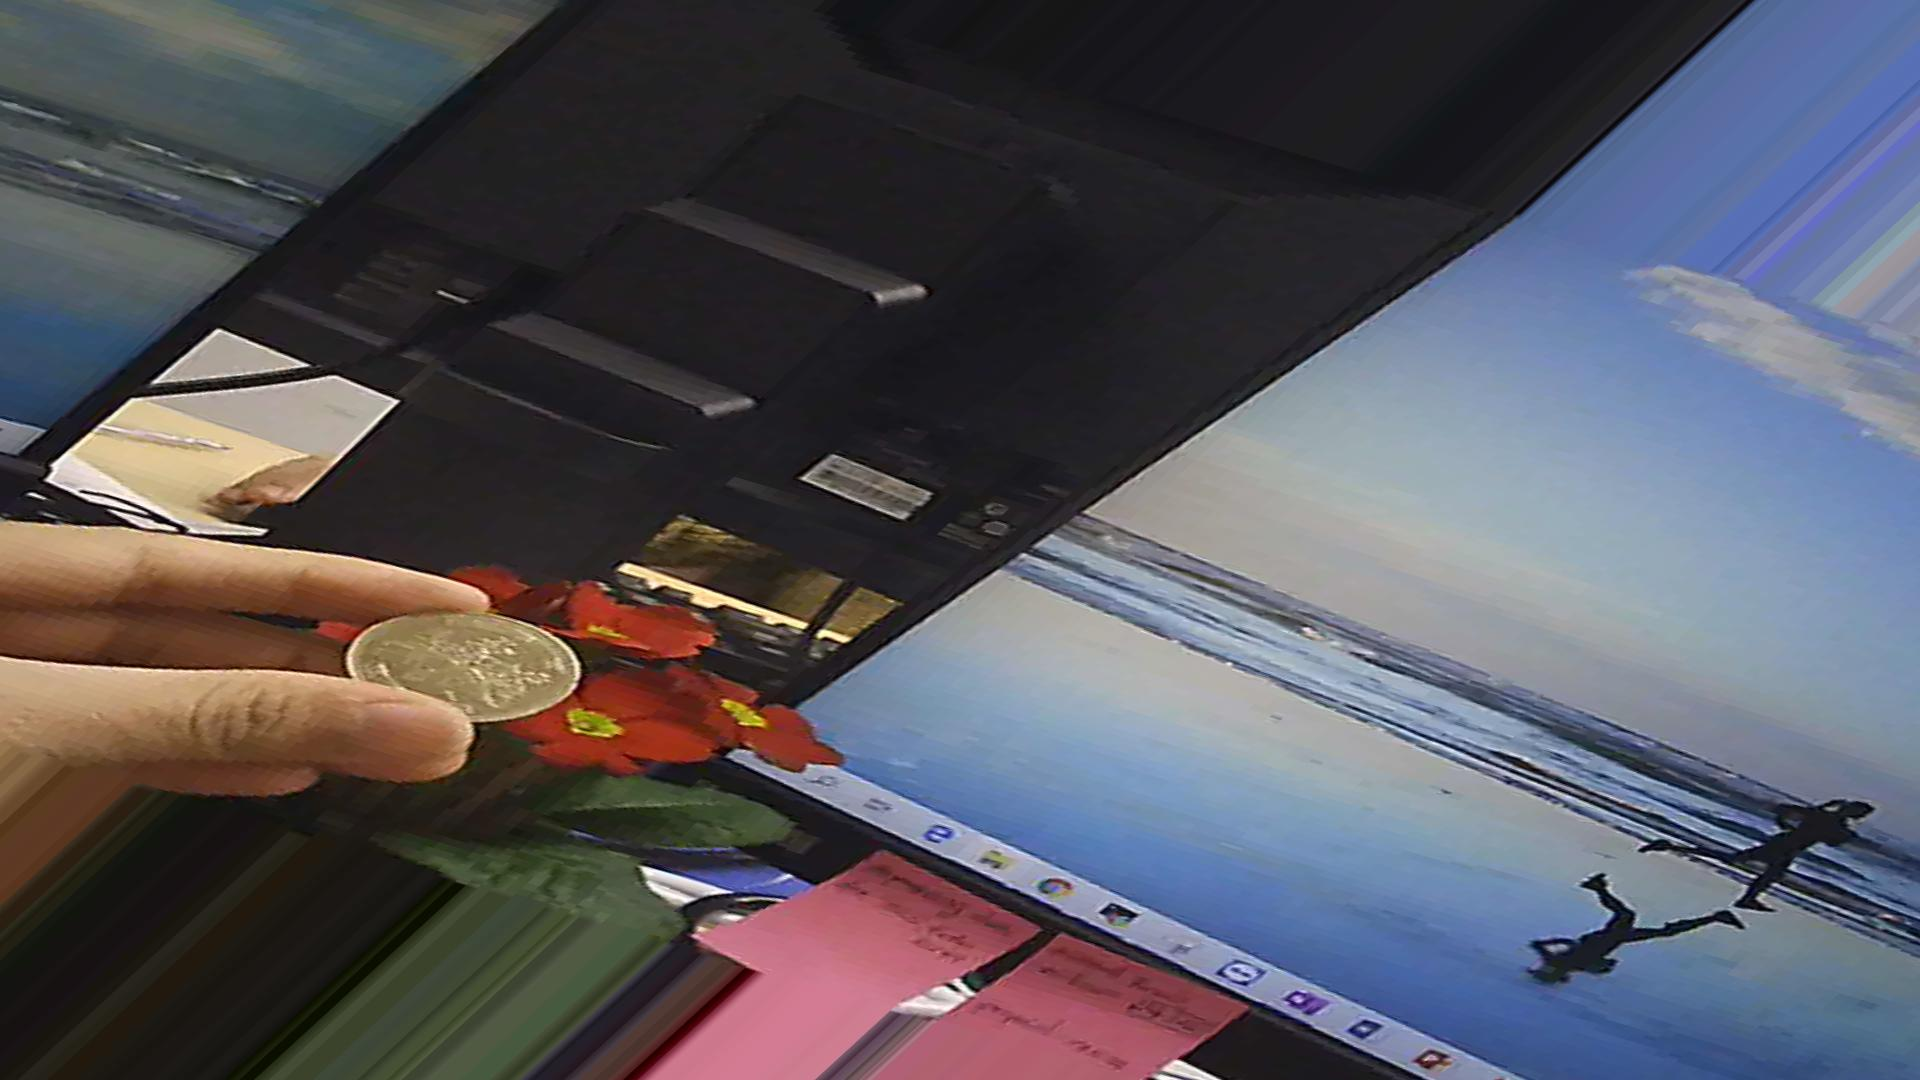500 Yen: (334, 597, 600, 738)
